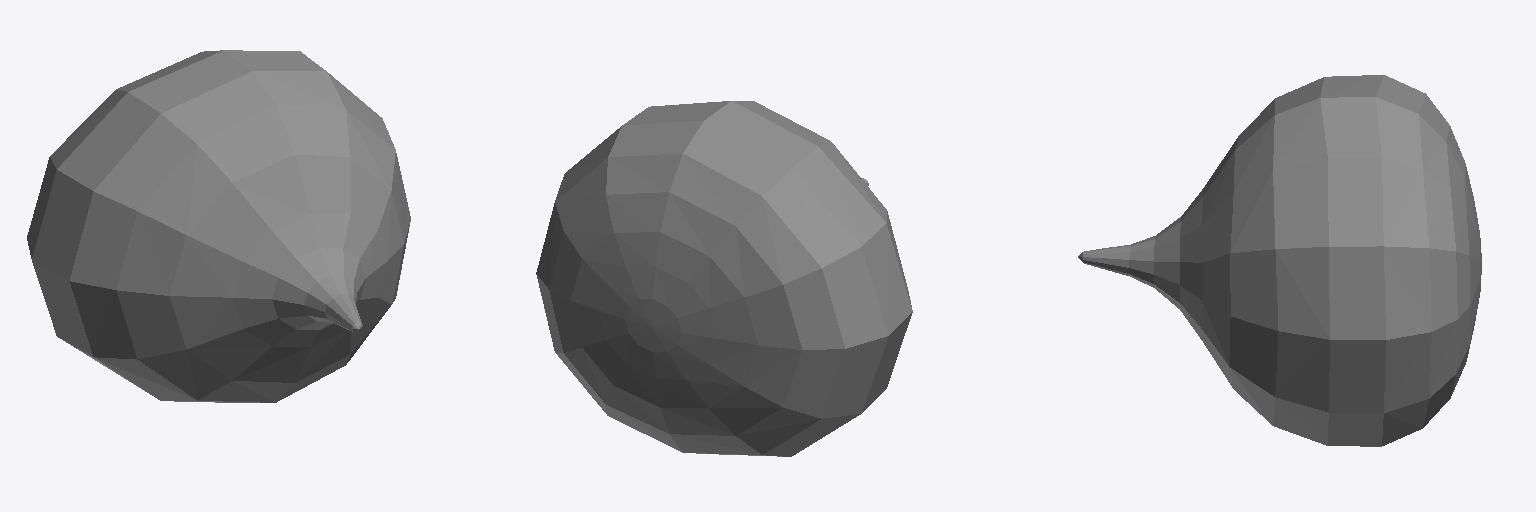
File: slime.obj
3 renders of one model, left to right at view 1: azimuth 30°, elevation 25°; view 2: azimuth 150°, elevation 25°; view 3: azimuth 270°, elevation 25°, orthographic.
Visible parts, largest first — view 1: Slime; view 2: Slime; view 3: Slime.
Boxes of the visible parts, box(x1,y1,x2,y2) form: Slime: box(27, 50, 410, 402); Slime: box(536, 101, 912, 456); Slime: box(1078, 75, 1481, 446).
Bounding box in the file's own units: 5.16 × 4.77 × 5.24.